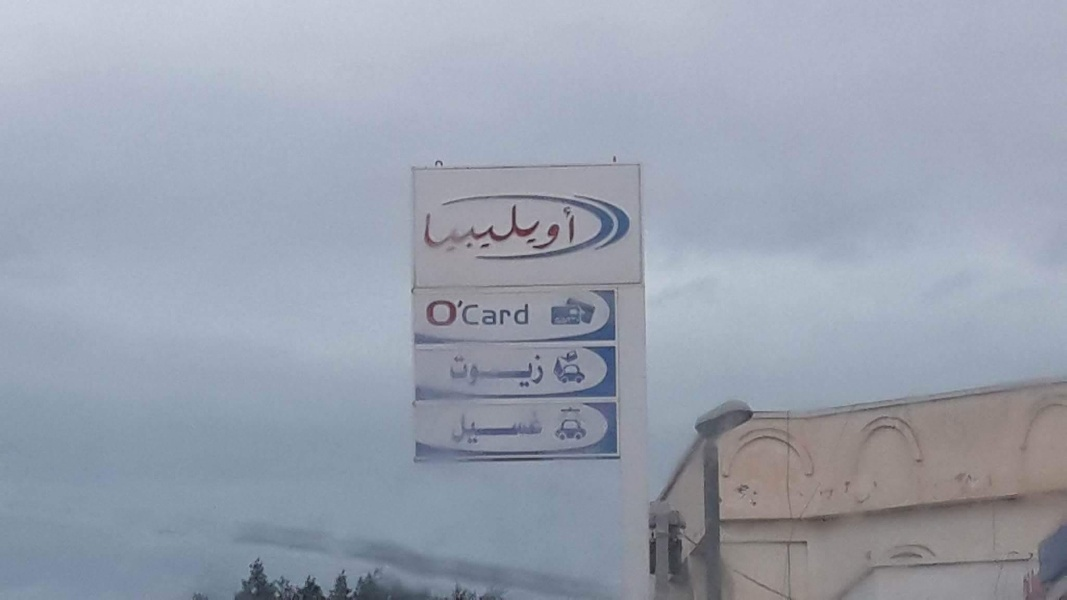text: (433, 199, 448, 260), (449, 199, 464, 260), (465, 199, 480, 260), (481, 199, 496, 260), (497, 199, 512, 260), (513, 199, 528, 260), (529, 199, 544, 260), (545, 199, 560, 260), (561, 199, 576, 260), (422, 199, 432, 260), (529, 354, 545, 389), (465, 409, 480, 446), (481, 409, 496, 446), (497, 409, 512, 446), (513, 409, 528, 446), (465, 354, 480, 389), (481, 354, 496, 389), (497, 354, 512, 389), (513, 354, 528, 389), (529, 409, 543, 446), (433, 297, 448, 330), (449, 297, 464, 330), (465, 297, 480, 330), (481, 297, 496, 330), (497, 297, 512, 330), (513, 297, 528, 330), (451, 354, 464, 389), (452, 409, 464, 446), (426, 297, 432, 330), (529, 297, 533, 330), (577, 199, 579, 260)
